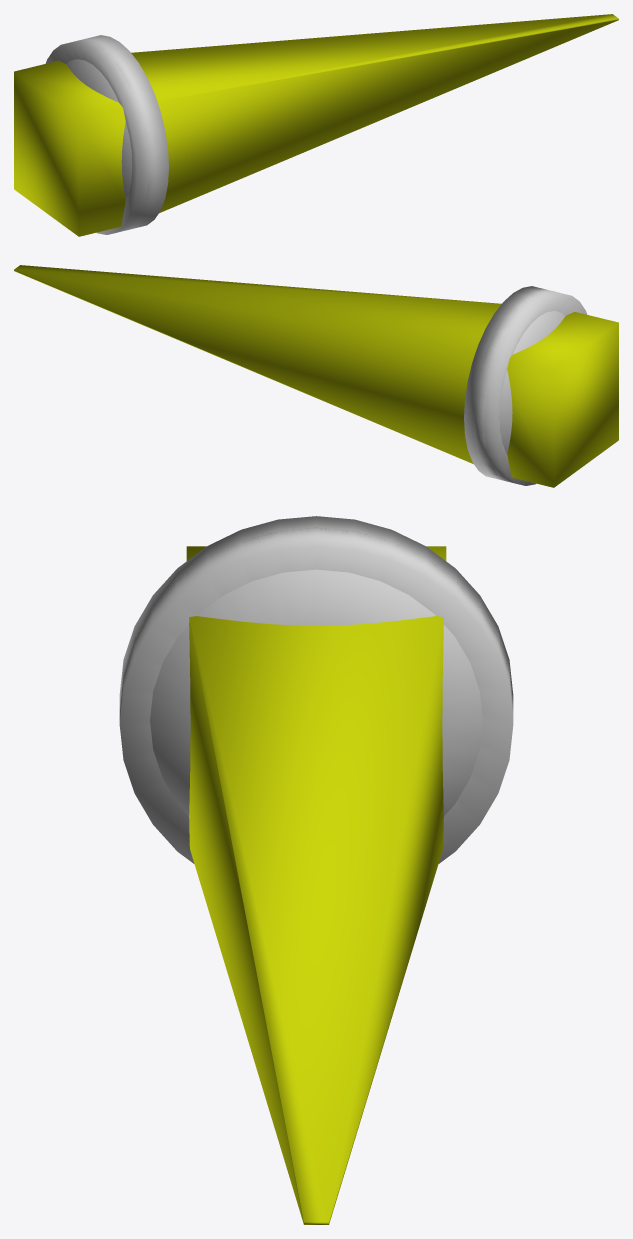
Rendered from perbaiki_cacat_mata.fbx.
3 renders of one model, top to bottom at view 1: azimuth 30°, elevation 25°; view 2: azimuth 150°, elevation 25°; view 3: azimuth 270°, elevation 25°, orthographic. The views are drawn at different scales.
Visible parts, largest first — view 1: cahaya, lensa_cekung, lensa_cembung; view 2: cahaya, lensa_cekung, lensa_cembung; view 3: cahaya, lensa_cekung, lensa_cembung.
Boxes of the visible parts, x1=… form: cahaya: x1=14, y1=14, x2=618, y2=236; lensa_cekung: x1=45, y1=35, x2=168, y2=234; lensa_cembung: x1=66, y1=37, x2=159, y2=229; cahaya: x1=14, y1=265, x2=618, y2=487; lensa_cekung: x1=464, y1=286, x2=587, y2=485; lensa_cembung: x1=473, y1=288, x2=565, y2=475; cahaya: x1=186, y1=546, x2=446, y2=1224; lensa_cekung: x1=119, y1=516, x2=513, y2=863; lensa_cembung: x1=119, y1=527, x2=513, y2=815.
Bounding box in the file's own units: 76.2 × 22.81 × 22.81.
